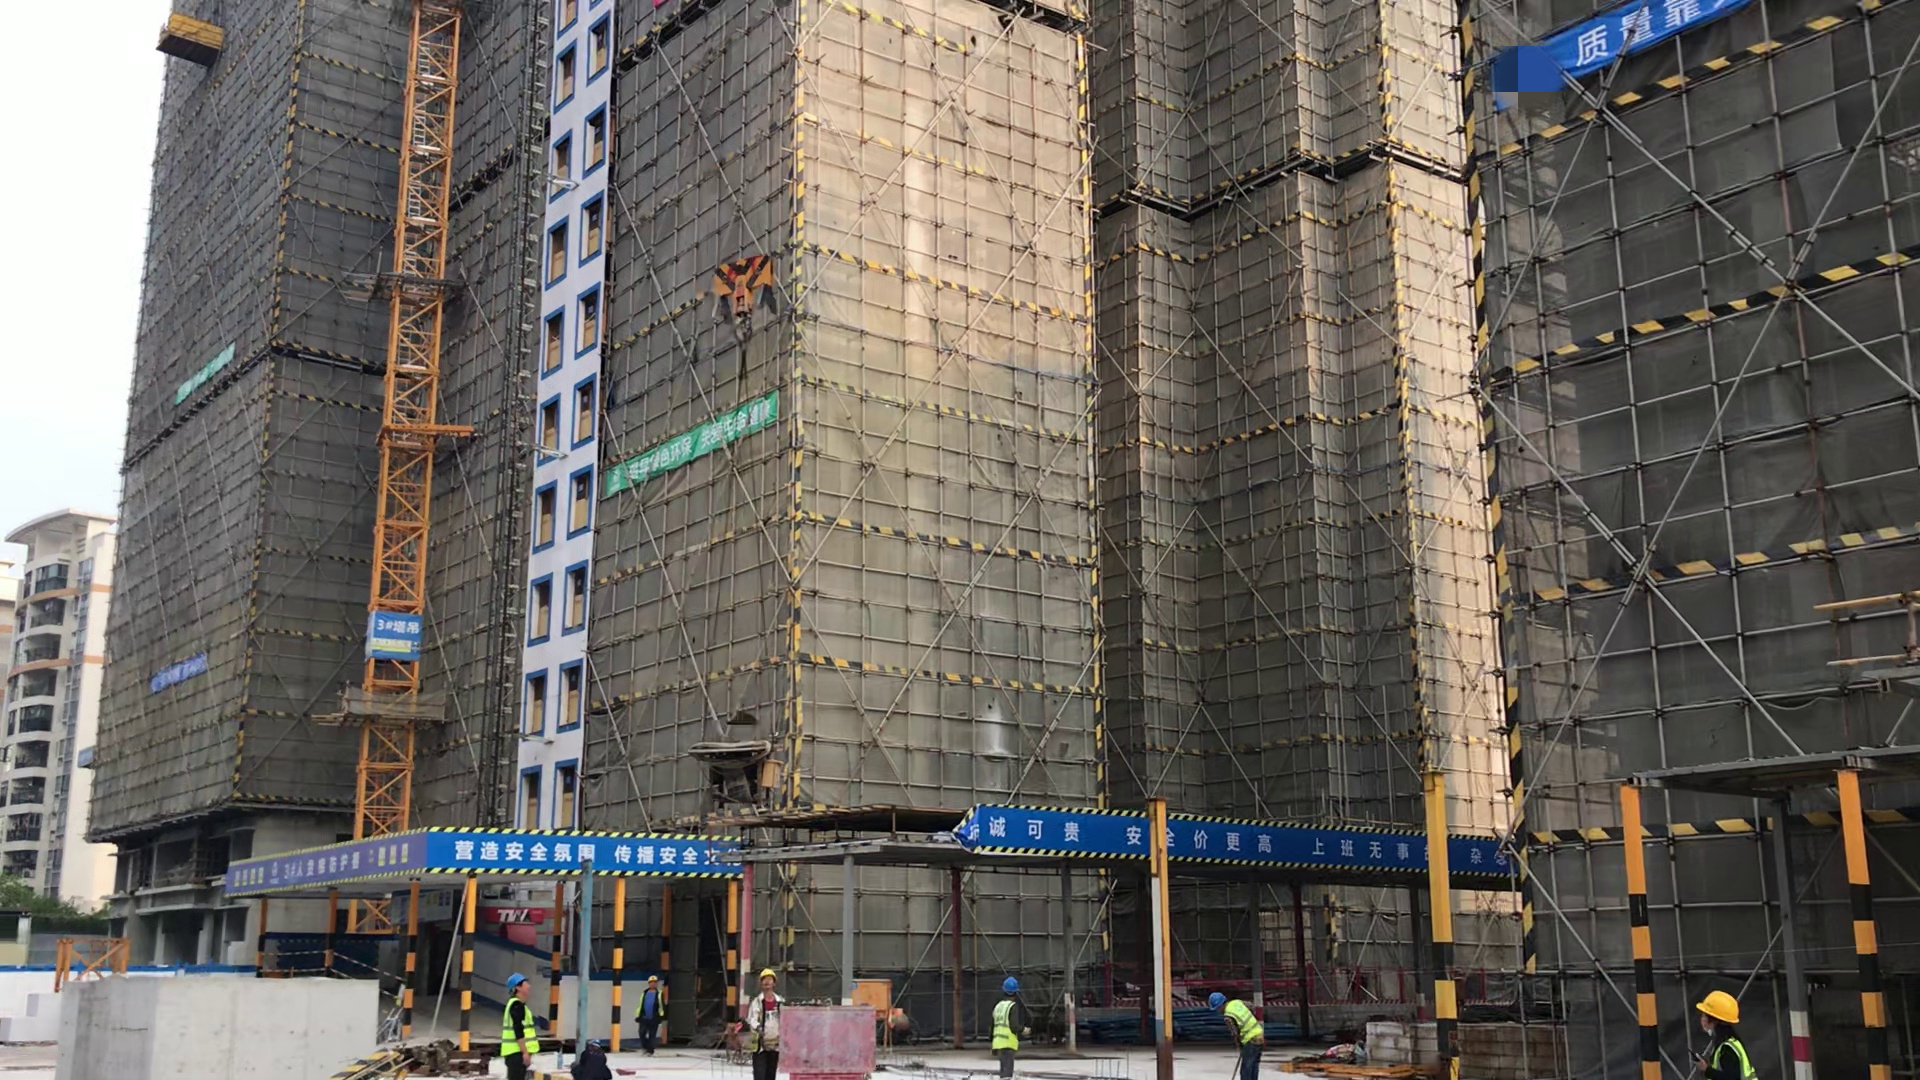ebox: (853, 975, 894, 1022)
fence: (1100, 959, 1517, 1007)
helmet: (504, 973, 528, 992), (756, 966, 781, 981), (1206, 994, 1228, 1012), (1003, 977, 1019, 992), (646, 974, 661, 982)
hook: (709, 249, 786, 352)
person: (1677, 984, 1785, 1077), (734, 961, 804, 1080), (484, 971, 558, 1080), (1200, 983, 1282, 1078), (979, 972, 1041, 1080), (631, 969, 680, 1054)
slogan: (979, 807, 1511, 881), (426, 823, 745, 882), (607, 393, 776, 498), (1563, 1, 1730, 90), (220, 829, 426, 901), (173, 342, 234, 404), (151, 653, 210, 692)
vest: (498, 998, 540, 1054), (751, 996, 785, 1053), (1222, 1004, 1264, 1042), (990, 999, 1019, 1051), (634, 989, 667, 1021)
